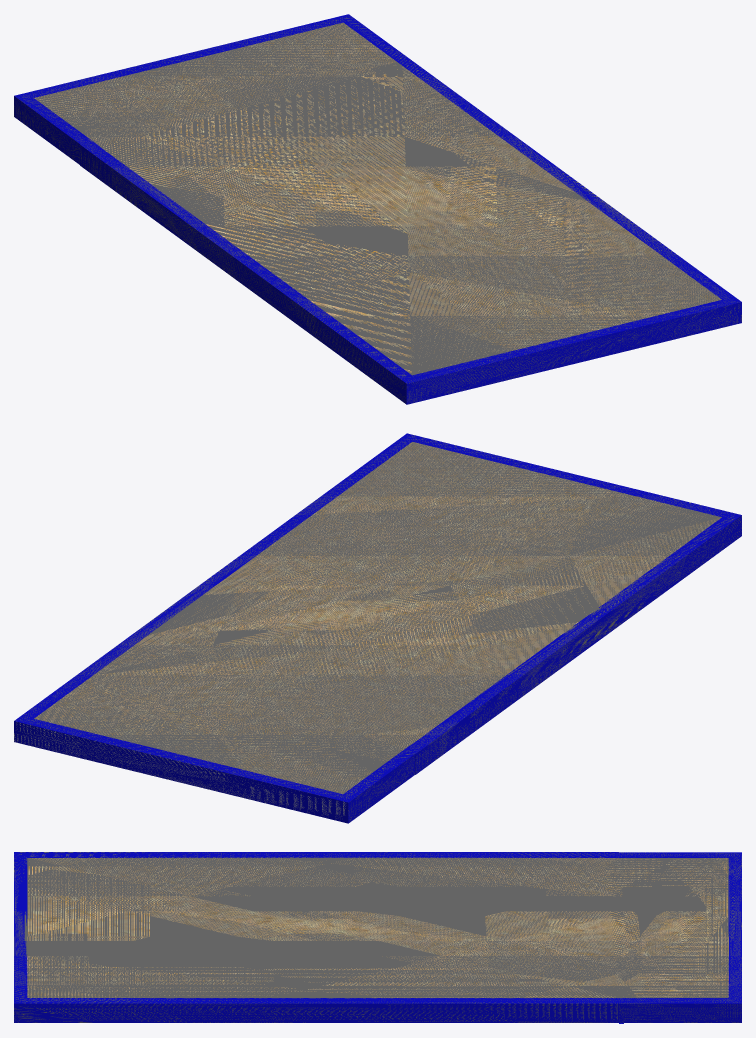
File: original-6.obj
3 renders of one model, top to bottom at view 1: azimuth 30°, elevation 25°; view 2: azimuth 150°, elevation 25°; view 3: azimuth 270°, elevation 25°, orthographic. The views are drawn at different scales.
Visible parts, largest first — view 1: mesh6/mesh6-geometry#mesh6-geometry; view 2: mesh6/mesh6-geometry#mesh6-geometry; view 3: mesh6/mesh6-geometry#mesh6-geometry.
Part boxes in pixels (bbox=[...]): mesh6/mesh6-geometry#mesh6-geometry: bbox=[14, 14, 741, 404]; mesh6/mesh6-geometry#mesh6-geometry: bbox=[14, 433, 741, 823]; mesh6/mesh6-geometry#mesh6-geometry: bbox=[14, 852, 741, 1023].
Size of the model in its own units: 0.5507 by 0.0328 by 1.11.
Materials: 4 (1 with a texture image).
